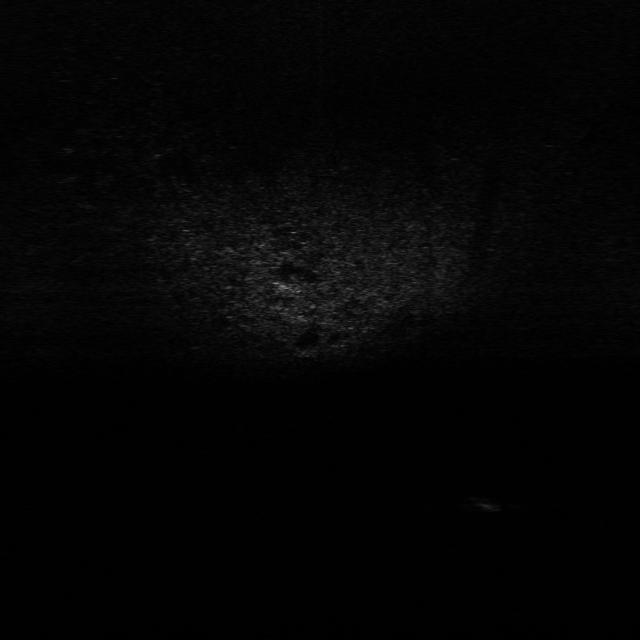cylinder: (454, 490, 514, 514)
